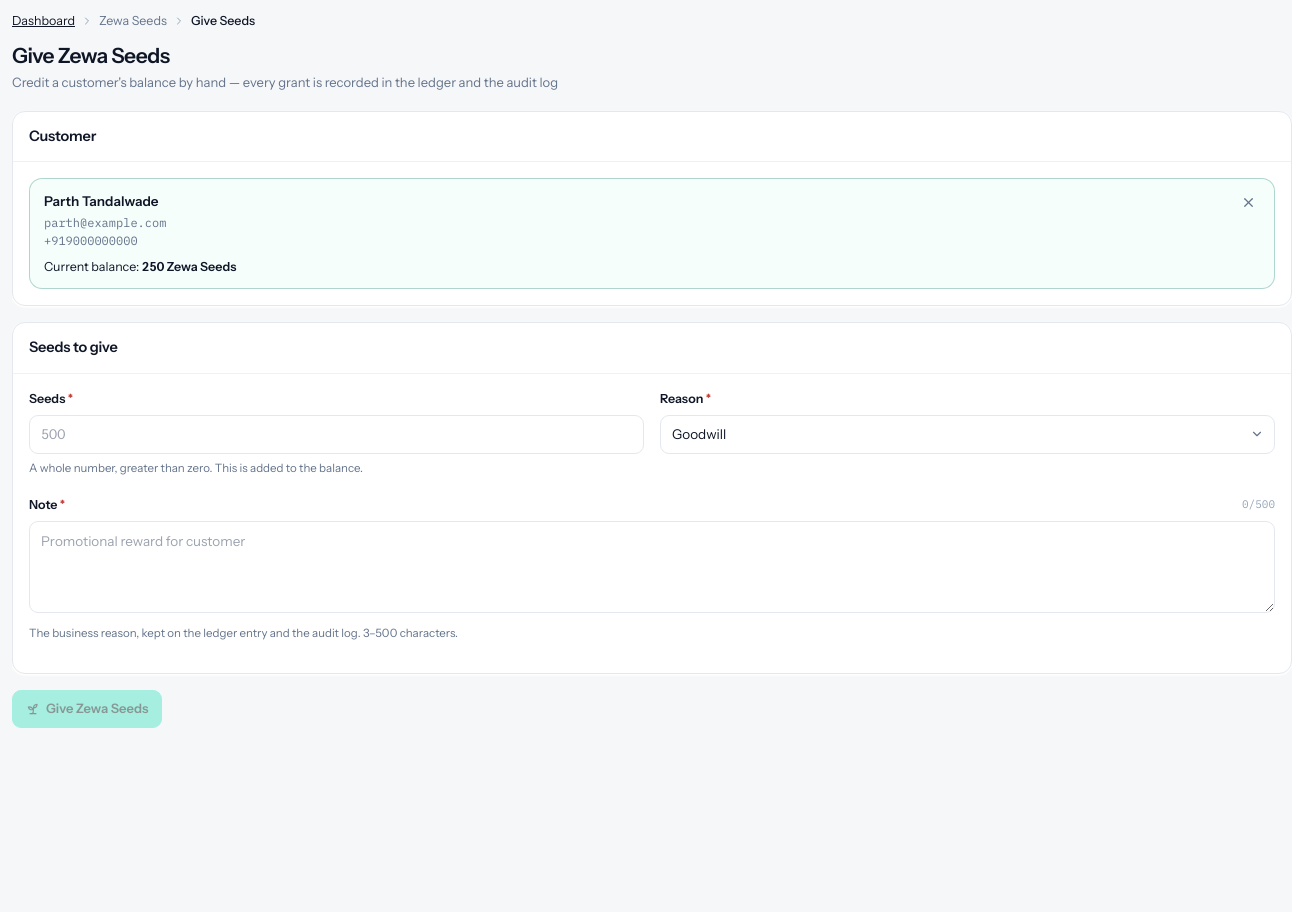
Test: arriving from a customer page with ?customerId= › still lets the admin change who was preselected
Expected: the text "Parth Tandalwade" is shown, [44,193,158,209]
Click the button named "choose a different customer". click: (1248,203)
box: [1237,191,1260,214]
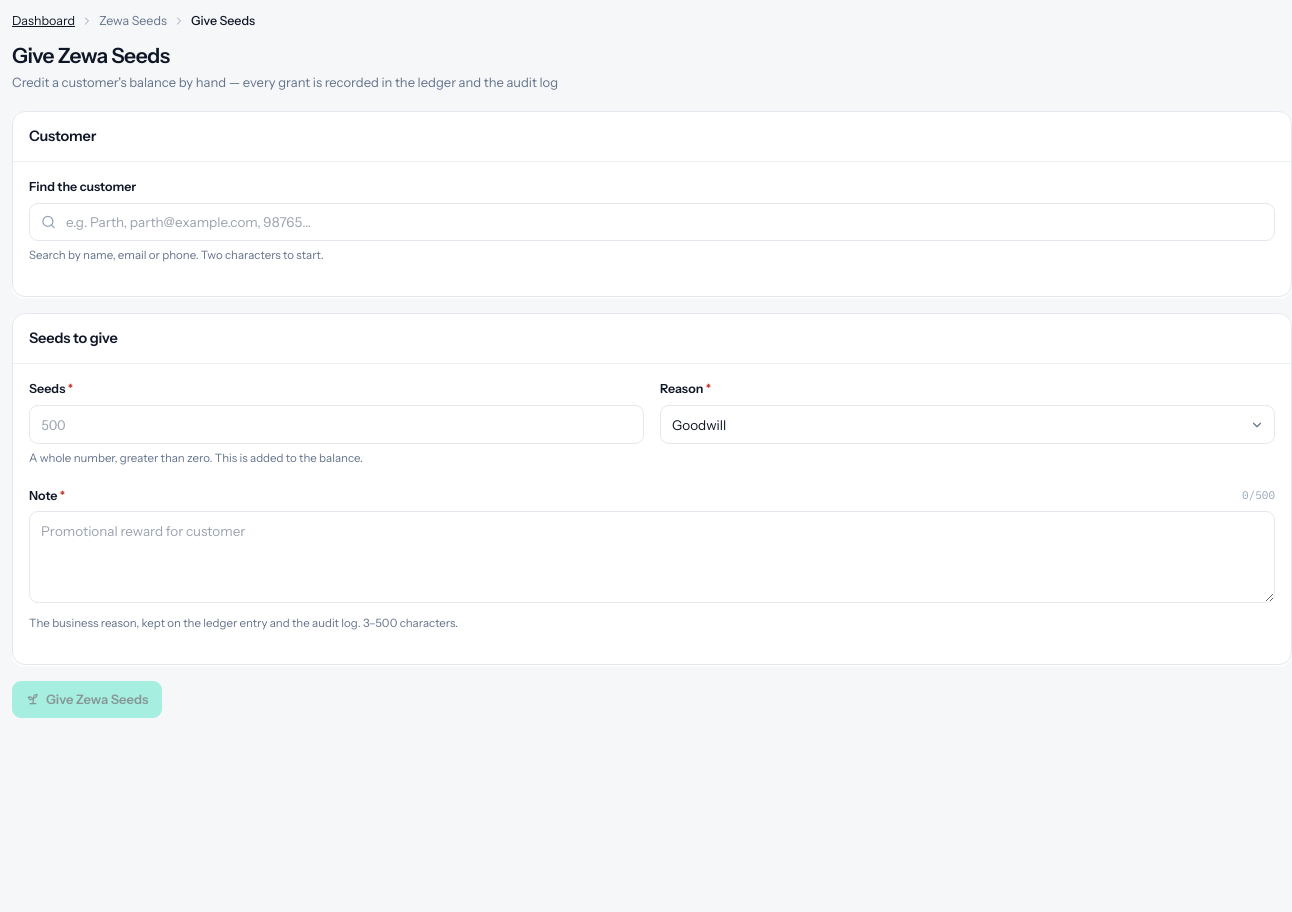
Now the field labelled "Find the customer" is shown, box [29,203,1275,241]
